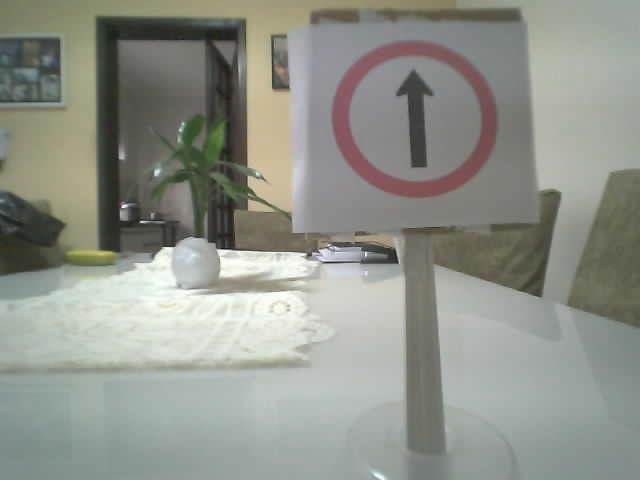R-26_frente: (331, 40, 495, 197)
